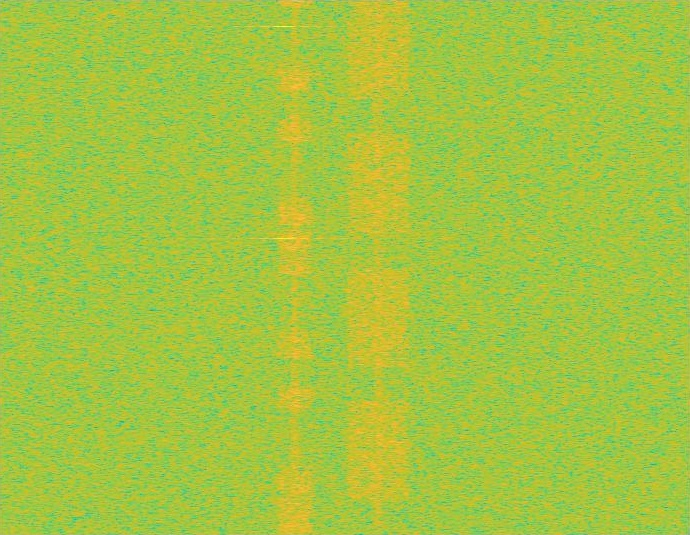5G: (344, 0, 413, 534)
DSSS: (374, 0, 383, 534), (291, 0, 299, 534)
LTE: (278, 0, 312, 534)
Radar: (277, 0, 291, 534)
